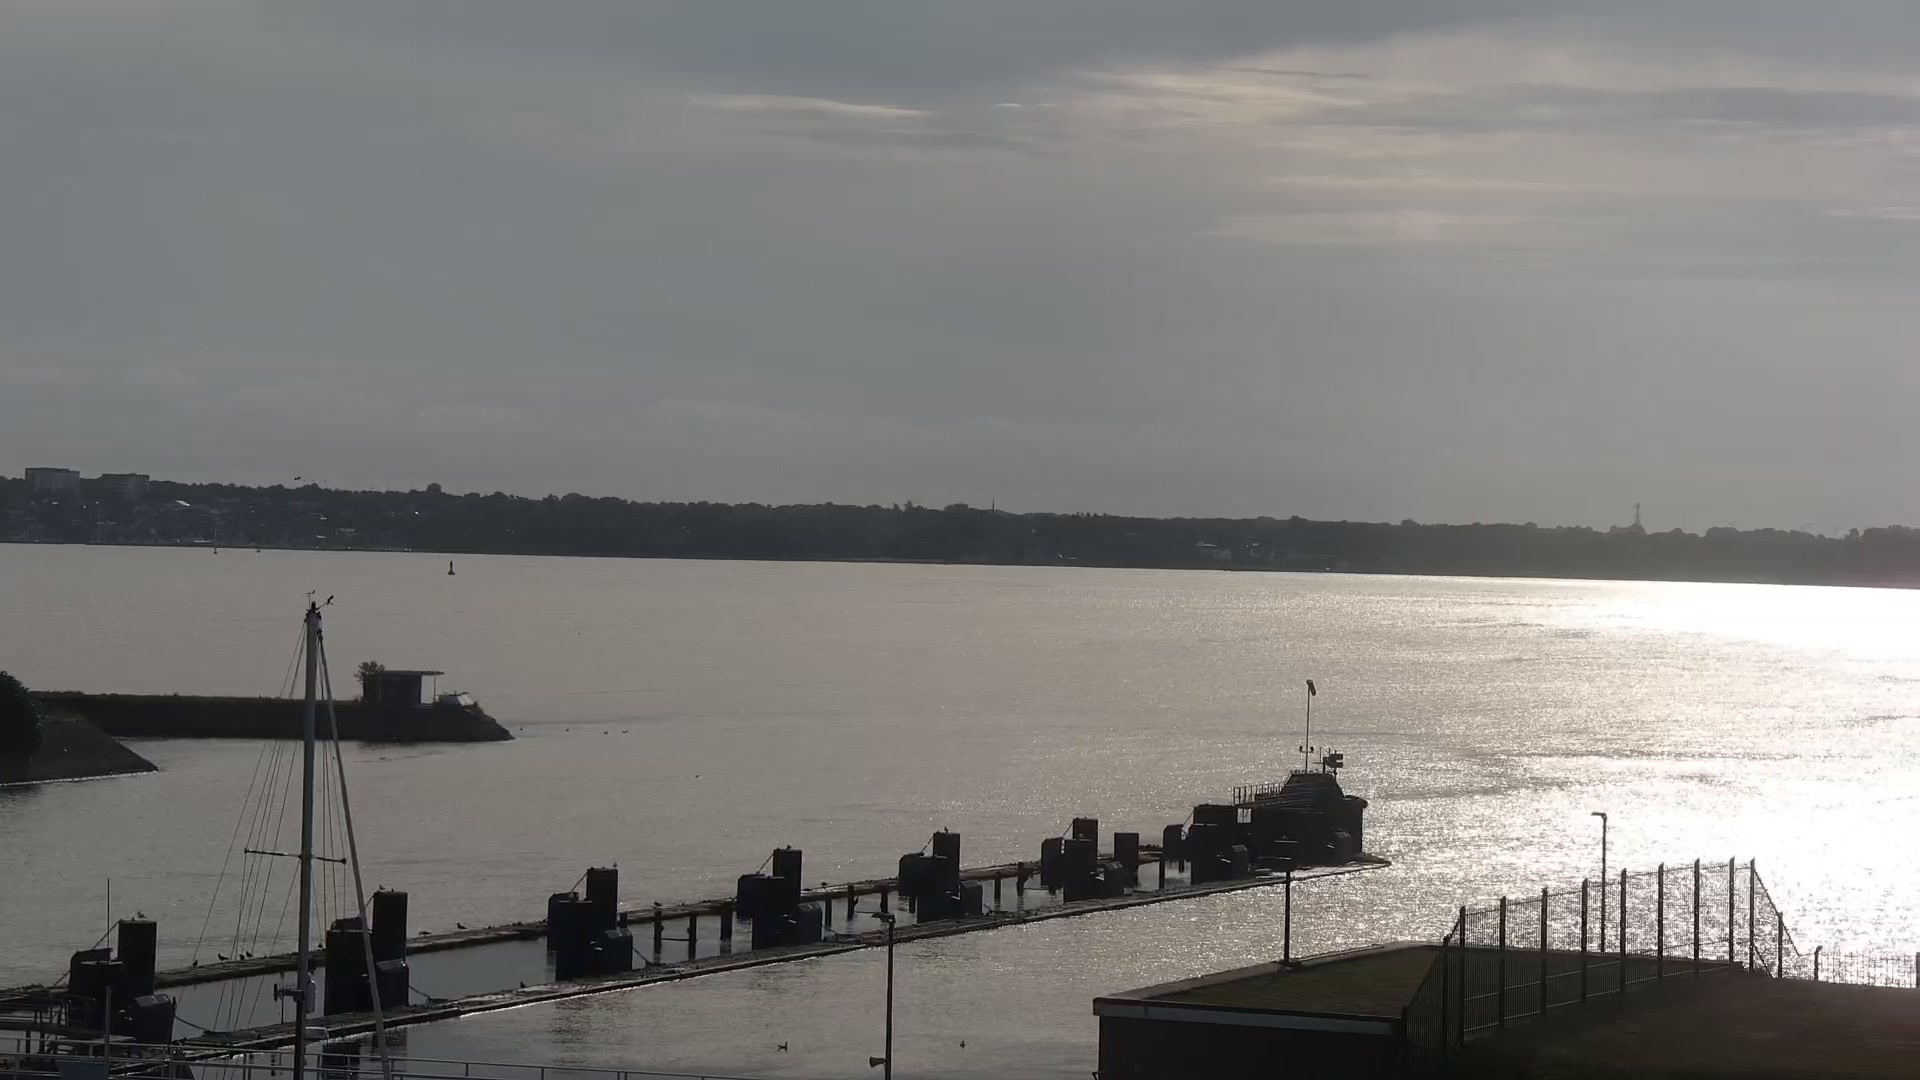sea: (164, 589, 392, 1080)
